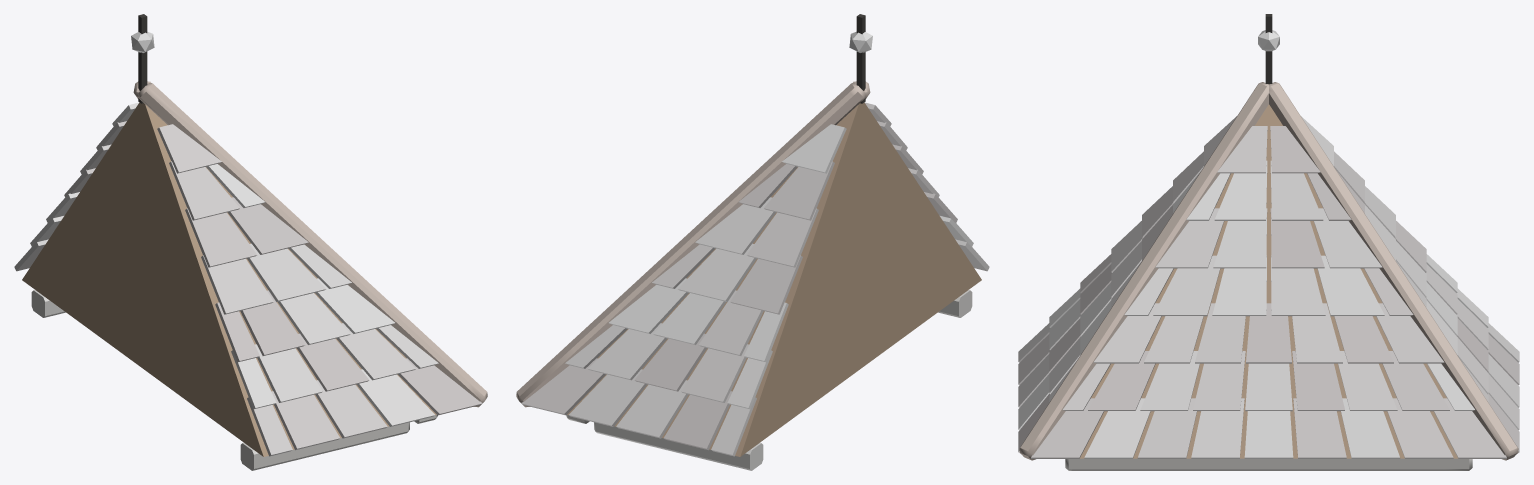
Rendered from Kit_RealTower_CrRfA.fbx.
The picture shows the model from 3 angles, left to right: view 1: azimuth 30°, elevation 25°; view 2: azimuth 150°, elevation 25°; view 3: azimuth 270°, elevation 25°; orthographic projection. The views are drawn at different scales.
Parts seen in each view (by area): view 1: Kit_RealTower_CrRfA_LOD0; view 2: Kit_RealTower_CrRfA_LOD0; view 3: Kit_RealTower_CrRfA_LOD0.
Boxes of the visible parts, x1,y1,x2,y2 form: Kit_RealTower_CrRfA_LOD0: [14, 14, 487, 470]; Kit_RealTower_CrRfA_LOD0: [516, 14, 989, 470]; Kit_RealTower_CrRfA_LOD0: [1018, 14, 1519, 470].
Size of what is drawn, in the model's own units: 1.42 by 2.18 by 2.71.
